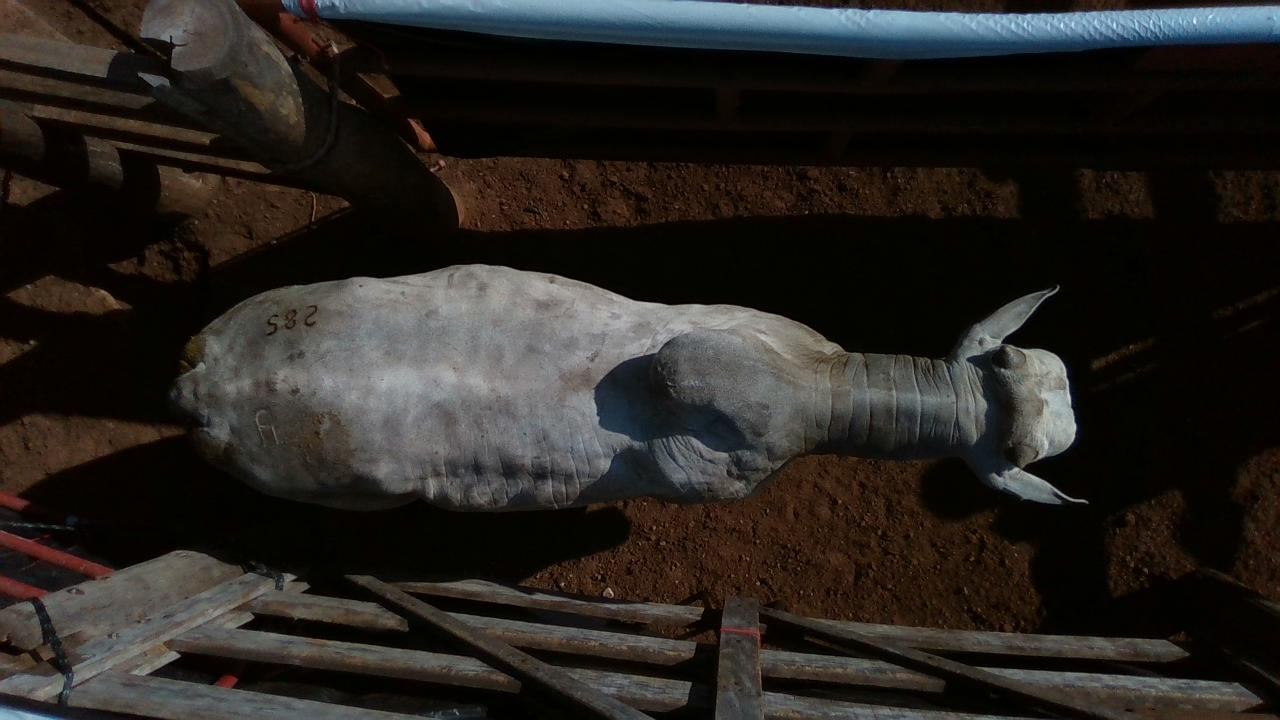cattle: (167, 260, 1091, 516)
